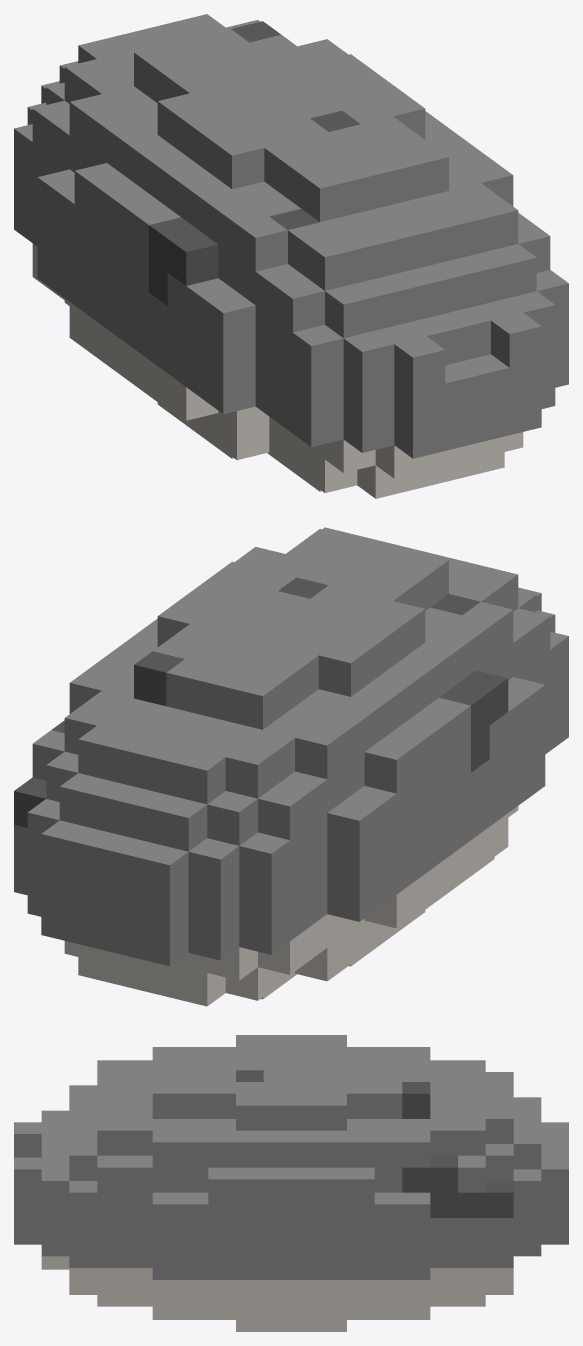
File: seal__body.obj
3 renders of one model, top to bottom at view 1: azimuth 30°, elevation 25°; view 2: azimuth 150°, elevation 25°; view 3: azimuth 270°, elevation 25°, orthographic. The views are drawn at different scales.
Parts seen in each view (by area): view 1: seal__body; view 2: seal__body; view 3: seal__body.
Part boxes in pixels (x1,y1,x2,y2): seal__body: (14,14,568,498); seal__body: (14,527,568,1006); seal__body: (14,1035,568,1331).
Bounding box in the file's own units: 1 × 0.9 × 2.
Materials: 1 (1 with a texture image).
